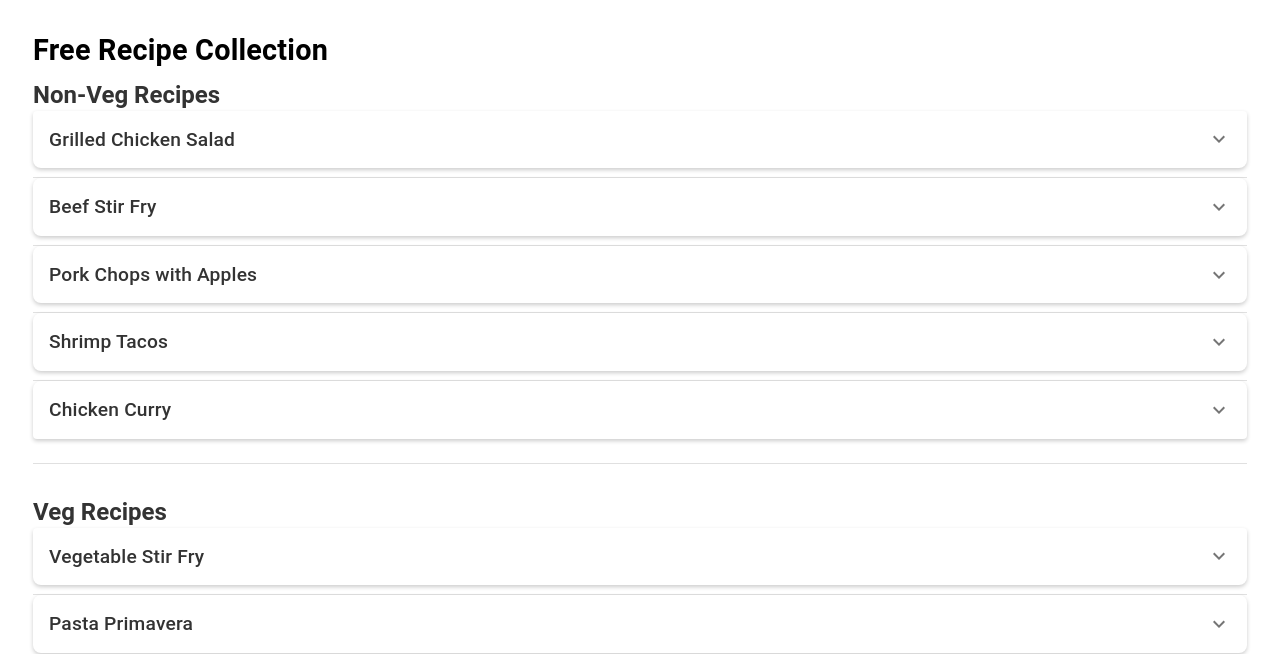
Test: FreeRecipeCollection Component › ensures recipe full details are displayed correctly
Expand the recipe
Click the button "Grilled Chicken Salad": click(142, 139) [33, 111, 1247, 169]
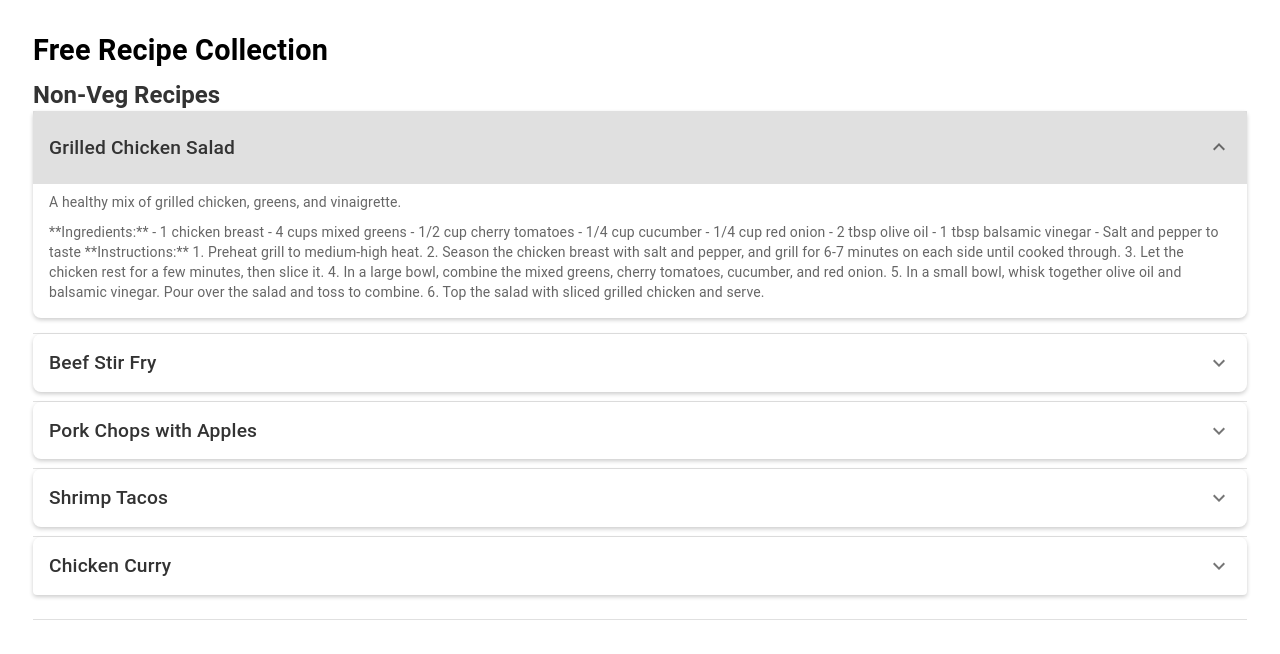
Now the text "Preheat grill to medium-high heat." is shown, box [49, 224, 1219, 300]
